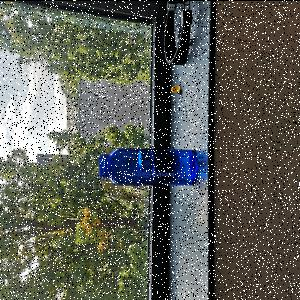Plastic-bottle: (98, 147, 201, 187)
